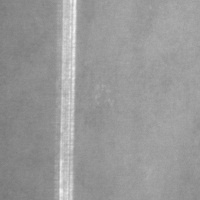scratches: (55, 0, 79, 199)
